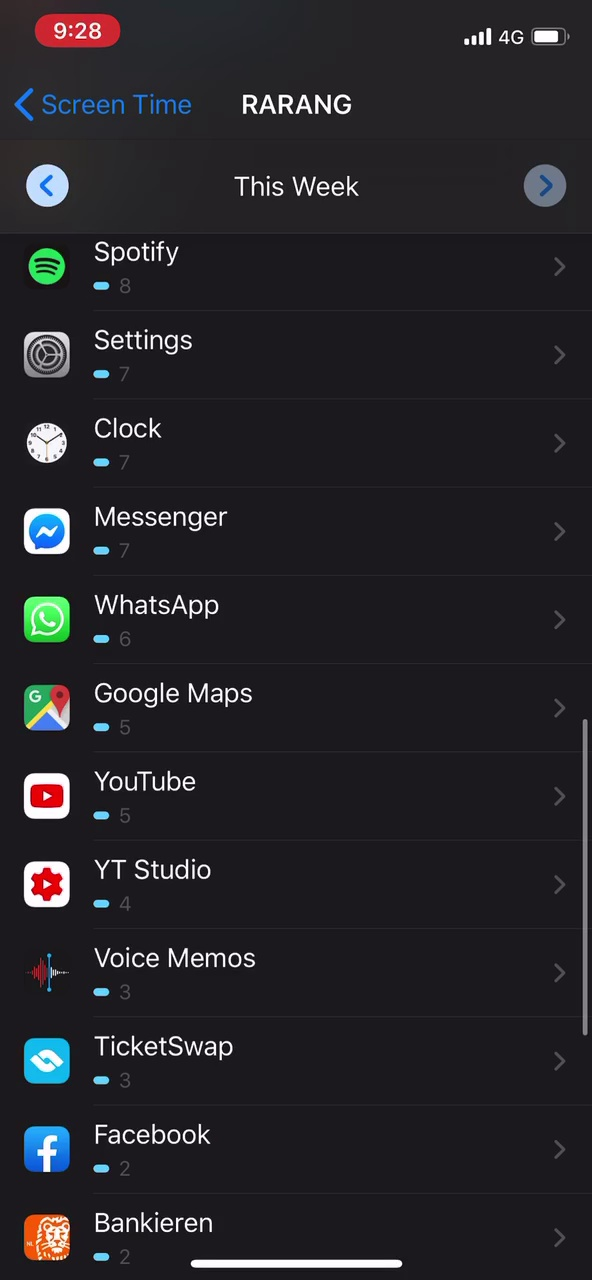pick_app: (12, 667, 296, 744), (17, 926, 292, 1005), (15, 840, 270, 921), (14, 1018, 260, 1099), (17, 1107, 264, 1187), (17, 487, 264, 566), (15, 577, 247, 661), (14, 750, 256, 828), (15, 403, 251, 480), (15, 316, 225, 392), (12, 234, 221, 308)
week: (233, 167, 374, 207)
